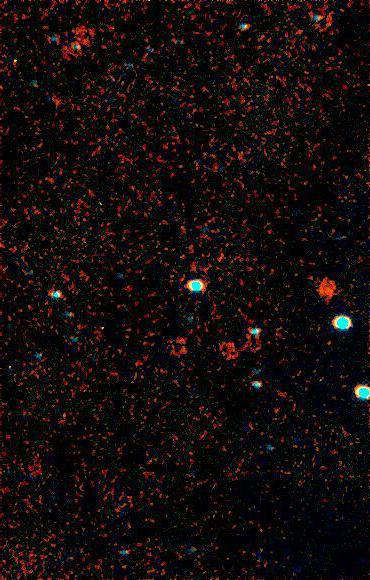star: (47, 399, 77, 429)
